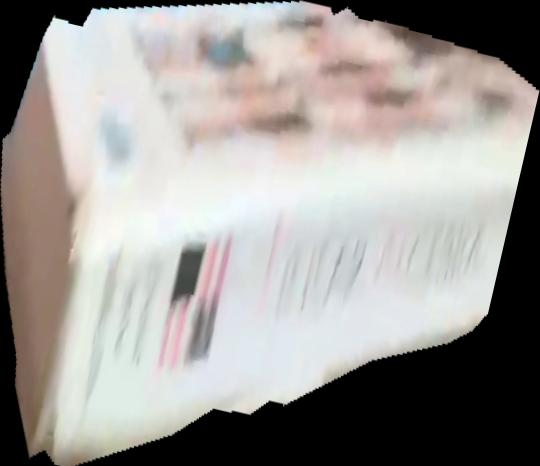flat: (1, 1, 540, 466)
